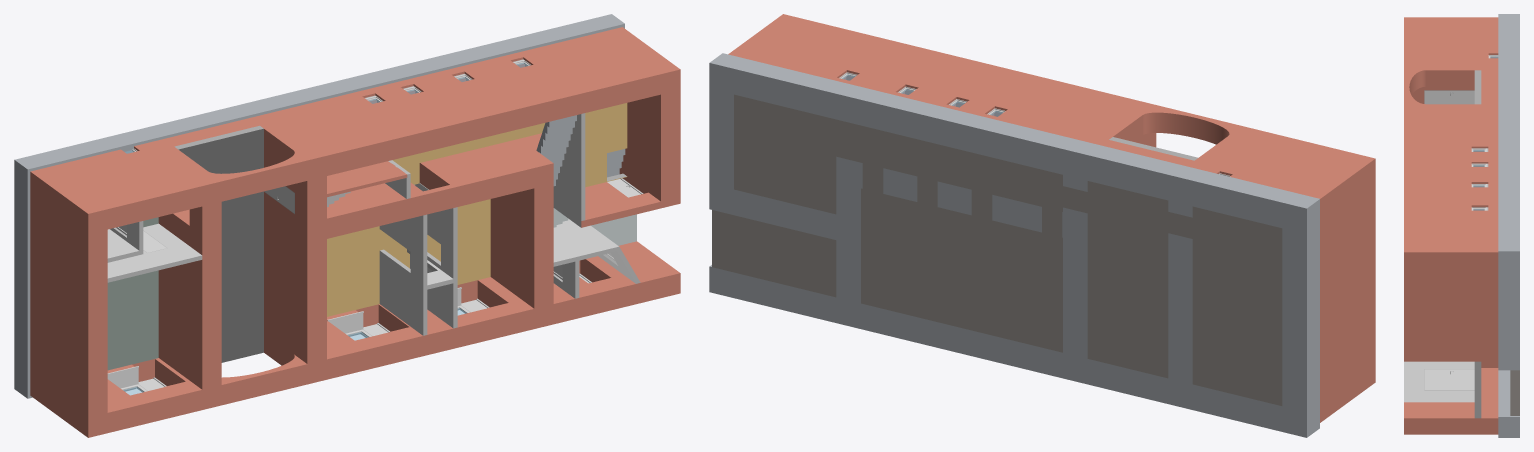
The model's file is malyi47nadpodv.obj.
3 renders of one model, left to right at view 1: azimuth 30°, elevation 25°; view 2: azimuth 150°, elevation 25°; view 3: azimuth 270°, elevation 25°, orthographic. The views are drawn at different scales.
Parts seen in each view (by area): view 1: Стены__Базовая стена__ADSK_Наружная_Кирпич 760 мм__491243, Стены__Базовая стена__ADSK_Наружная_Кирпич 760 мм__491188, Стены__Базовая стена__ADSK_Наружная_Кирпич 760 мм__490981, Стены__Базовая стена__ADSK_Внутренняя_Кирпич120 шт20-шт20_160__5, Фундамент несущей конструкции__Фундаментная плита__ADSK_Плита_90, Перекрытия__Перекрытие__ADSK_Перекрытие_Бетонное заполнение на к, Стены__Базовая стена__ADSK_Наружная_Кирпич 760 мм__491348, Стены__Базовая стена__ADSK_Наружная_Кирпич 760 мм__491396, Перекрытия__Перекрытие__ADSK_Асфальт по стальным балкам__513946, Стены__Базовая стена__ADSK_Наружная_Кирпич 760 мм__491304, Стены__Базовая стена__ADSK_Наружная_Кирпич 760 мм__491058, Стены__Базовая стена__ADSK_Наружная_Кирпич 760 мм__491447 (+5 smaller); view 2: Перекрытия__Перекрытие__ADSK_Пол_По грунту мой__516292, Фундамент несущей конструкции__Фундаментная плита__ADSK_Плита_90, Стены__Базовая стена__ADSK_Наружная_Кирпич 760 мм__491243, Стены__Базовая стена__ADSK_Наружная_Кирпич 760 мм__490981, Перекрытия__Перекрытие__ADSK_Пол_По грунту мой__528373, Стены__Базовая стена__ADSK_Наружная_Кирпич 760 мм__491058; view 3: Стены__Базовая стена__ADSK_Наружная_Кирпич 760 мм__491243, Стены__Базовая стена__ADSK_Наружная_Кирпич 760 мм__491058, Фундамент несущей конструкции__Фундаментная плита__ADSK_Плита_90, Стены__Базовая стена__ADSK_Наружная_Кирпич 760 мм__491188, Стены__Базовая стена__ADSK_Внутренняя_Кирпич120 шт20-шт20_160__5, Двери__AC_Дверь_Однопольная_Деревянная__860х2080h В Л__533478:7, Стены__Базовая стена__ADSK_Наружная_Кирпич 760 мм__490981, Двери__AC_Дверь_Однопольная_Деревянная__860х2080h В Л__528979:22, Стены__Базовая стена__ADSK_Внутренняя_Кирпич_250__491477, Перекрытия__Перекрытие__ADSK_Площадка ЛК__503911, Перекрытия__Перекрытие__ADSK_Пол_По грунту мой__516292, Стены__Базовая стена__ADSK_Наружная_Кирпич 760 мм__491304 (+2 smaller).
Part boxes in pixels (x1,y1,x2,y2): Стены__Базовая стена__ADSK_Наружная_Кирпич 760 мм__491243: (50, 32, 660, 229); Стены__Базовая стена__ADSK_Наружная_Кирпич 760 мм__491188: (107, 241, 680, 432); Стены__Базовая стена__ADSK_Наружная_Кирпич 760 мм__490981: (30, 167, 107, 437); Стены__Базовая стена__ADSK_Внутренняя_Кирпич120 шт20-шт20_160__5: (107, 113, 640, 335); Фундамент несущей конструкции__Фундаментная плита__ADSK_Плита_90: (14, 14, 624, 398); Перекрытия__Перекрытие__ADSK_Перекрытие_Бетонное заполнение на к: (327, 103, 627, 316); Стены__Базовая стена__ADSK_Наружная_Кирпич 760 мм__491348: (264, 149, 326, 363); Стены__Базовая стена__ADSK_Наружная_Кирпич 760 мм__491396: (327, 138, 553, 238); Перекрытия__Перекрытие__ADSK_Асфальт по стальным балкам__513946: (174, 125, 263, 362); Стены__Базовая стена__ADSK_Наружная_Кирпич 760 мм__491304: (158, 202, 221, 389); Стены__Базовая стена__ADSK_Наружная_Кирпич 760 мм__491058: (603, 27, 680, 201); Стены__Базовая стена__ADSK_Наружная_Кирпич 760 мм__491447: (490, 183, 553, 308); Перекрытия__Перекрытие__ADSK_Пол_По грунту мой__516292: (712, 94, 1282, 405); Фундамент несущей конструкции__Фундаментная плита__ADSK_Плита_90: (709, 53, 1319, 437); Стены__Базовая стена__ADSK_Наружная_Кирпич 760 мм__491243: (747, 19, 1355, 193); Стены__Базовая стена__ADSK_Наружная_Кирпич 760 мм__490981: (1301, 154, 1375, 422); Перекрытия__Перекрытие__ADSK_Пол_По грунту мой__528373: (862, 163, 1192, 238); Стены__Базовая стена__ADSK_Наружная_Кирпич 760 мм__491058: (728, 14, 802, 58); Стены__Базовая стена__ADSK_Наружная_Кирпич 760 мм__491243: (1404, 25, 1498, 244); Стены__Базовая стена__ADSK_Наружная_Кирпич 760 мм__491058: (1404, 244, 1498, 356); Фундамент несущей конструкции__Фундаментная плита__ADSK_Плита_90: (1498, 14, 1519, 437); Стены__Базовая стена__ADSK_Наружная_Кирпич 760 мм__491188: (1404, 368, 1498, 434); Стены__Базовая стена__ADSK_Внутренняя_Кирпич120 шт20-шт20_160__5: (1404, 361, 1474, 402); Двери__AC_Дверь_Однопольная_Деревянная__860х2080h В Л__533478:7: (1425, 370, 1474, 389); Стены__Базовая стена__ADSK_Наружная_Кирпич 760 мм__490981: (1404, 17, 1498, 24); Двери__AC_Дверь_Однопольная_Деревянная__860х2080h В Л__528979:22: (1425, 91, 1474, 104); Стены__Базовая стена__ADSK_Внутренняя_Кирпич_250__491477: (1404, 356, 1498, 361); Перекрытия__Перекрытие__ADSK_Площадка ЛК__503911: (1474, 361, 1481, 418); Перекрытия__Перекрытие__ADSK_Пол_По грунту мой__516292: (1510, 370, 1519, 415); Стены__Базовая стена__ADSK_Наружная_Кирпич 760 мм__491304: (1411, 86, 1474, 103).
Size of the model in its own units: 23360 by 8570 by 4825.
